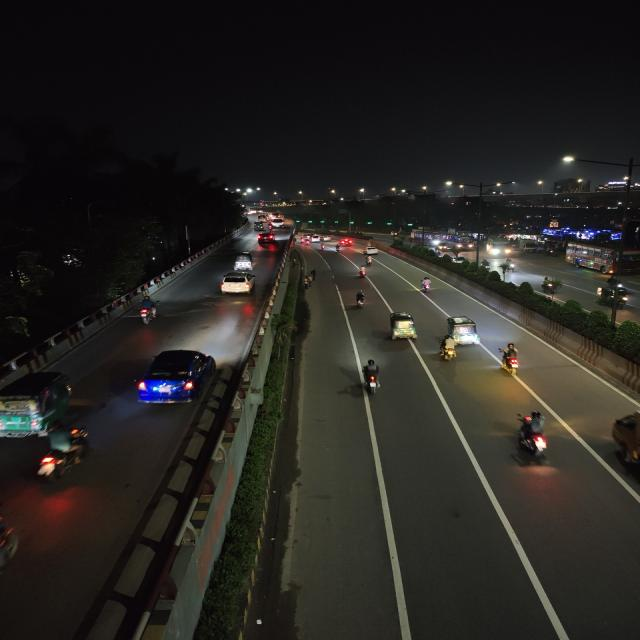bus: (566, 240, 634, 278), (486, 237, 514, 258), (438, 234, 472, 251), (414, 231, 438, 244)
car: (126, 342, 212, 407), (220, 270, 256, 298), (231, 250, 258, 272), (256, 232, 278, 246), (361, 243, 379, 257), (270, 219, 287, 229), (337, 237, 353, 245)
cng: (0, 368, 77, 434), (386, 309, 421, 352), (449, 311, 485, 349), (253, 220, 266, 232)
motorcycle: (520, 407, 552, 467), (498, 337, 529, 383), (358, 356, 386, 396), (131, 296, 167, 327), (439, 334, 459, 370), (349, 289, 376, 315), (418, 275, 436, 293), (355, 263, 370, 282), (332, 244, 344, 258), (363, 252, 374, 264), (317, 244, 326, 252)
pedestrian: (300, 275, 312, 295), (309, 265, 316, 280), (307, 274, 314, 287)
